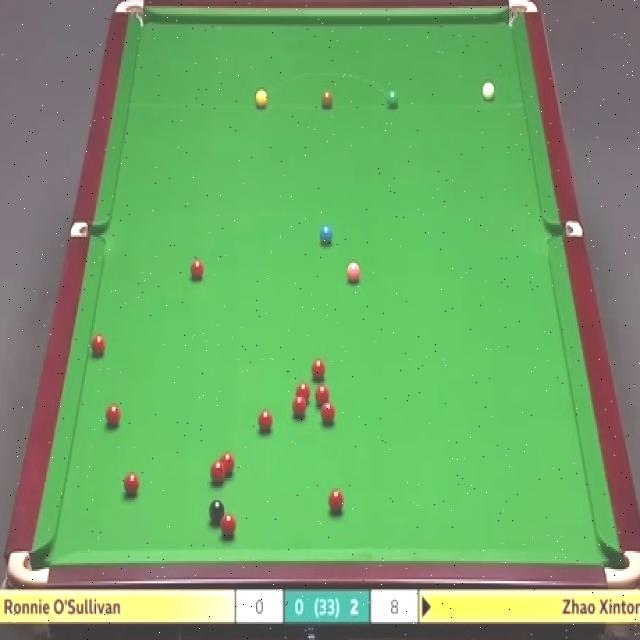black-ball: (209, 498, 227, 522)
blue-ball: (320, 223, 333, 248)
brown-ball: (321, 89, 334, 108)
green-ball: (385, 90, 398, 108)
pink-ball: (346, 263, 362, 285)
red-ball: (327, 486, 345, 516), (89, 333, 108, 360), (256, 407, 274, 435), (120, 471, 139, 496), (295, 379, 312, 405), (103, 401, 120, 427), (309, 358, 328, 381), (210, 459, 227, 484), (221, 452, 238, 476), (291, 396, 308, 418), (222, 514, 236, 540), (318, 387, 333, 411), (321, 401, 335, 422), (190, 261, 204, 279)
white-ball: (481, 81, 495, 101)
yellow-ball: (255, 89, 268, 108)
